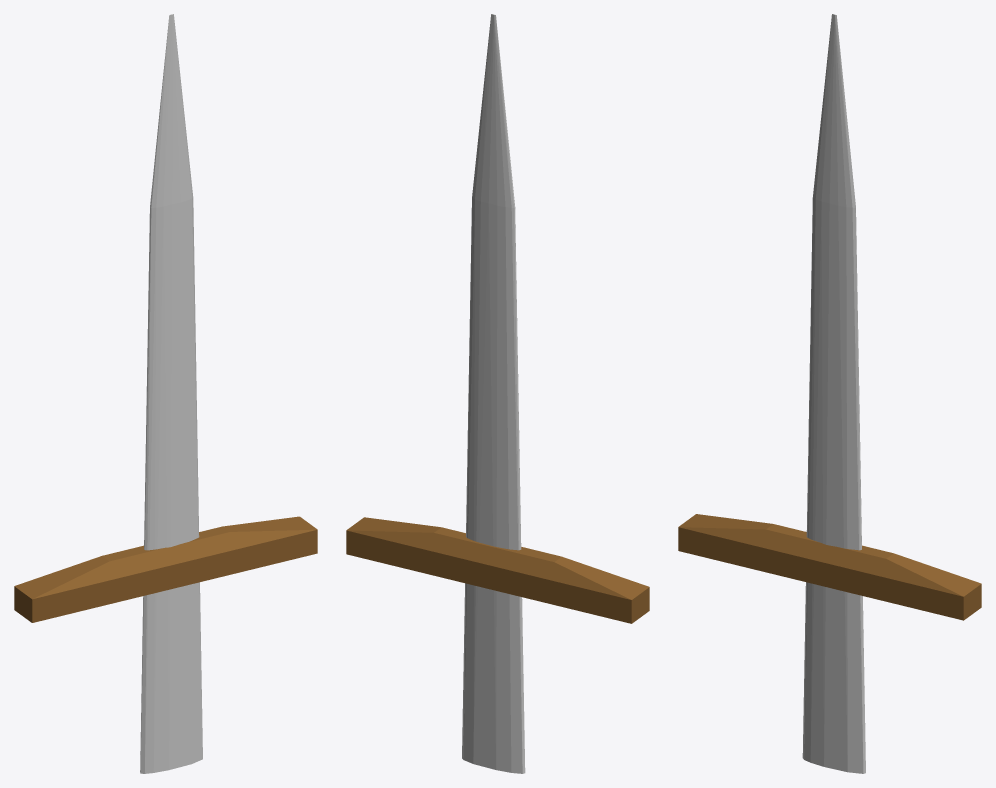
3 views of the same model, side by side, from view 1: azimuth 30°, elevation 25°; view 2: azimuth 150°, elevation 25°; view 3: azimuth 330°, elevation 25° (orthographic).
Visible parts, largest first — view 1: Cylinder, Cube; view 2: Cylinder, Cube; view 3: Cylinder, Cube.
Boxes of the visible parts, box(x1,y1,x2,y2) form: Cylinder: box(140, 14, 202, 773); Cube: box(14, 516, 317, 622); Cylinder: box(462, 14, 525, 773); Cube: box(346, 517, 649, 623); Cylinder: box(802, 14, 865, 773); Cube: box(678, 514, 981, 620).
Size of the model in its own units: 200 by 503 by 21.85.
